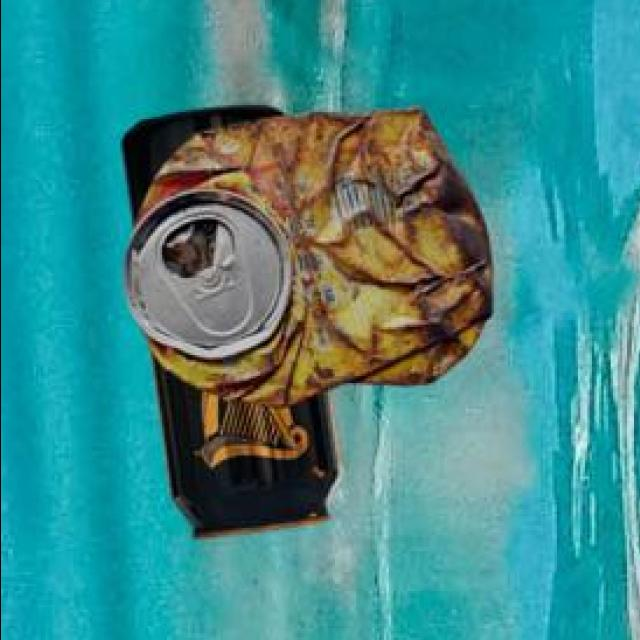logam: (127, 104, 494, 403), (125, 102, 345, 534)
